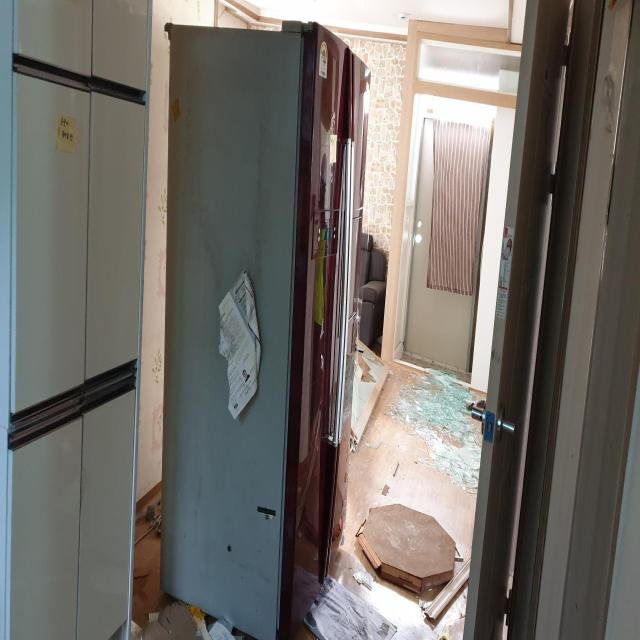refrigerator: (155, 17, 373, 637)
